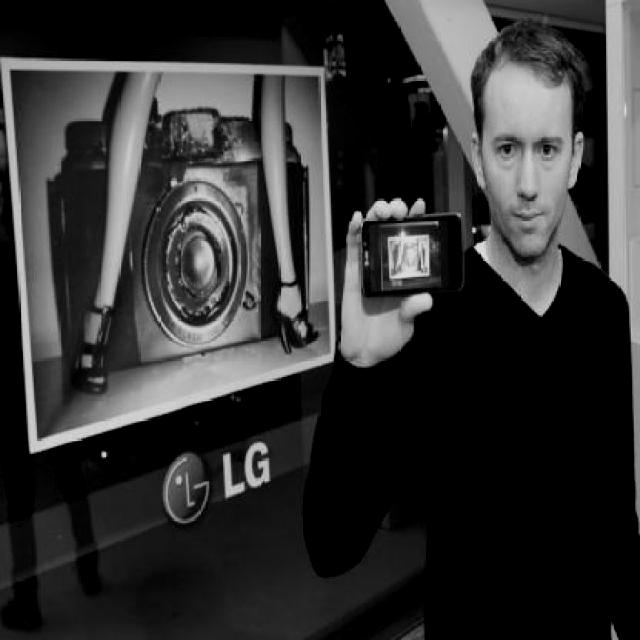fake: (357, 211, 468, 300)
